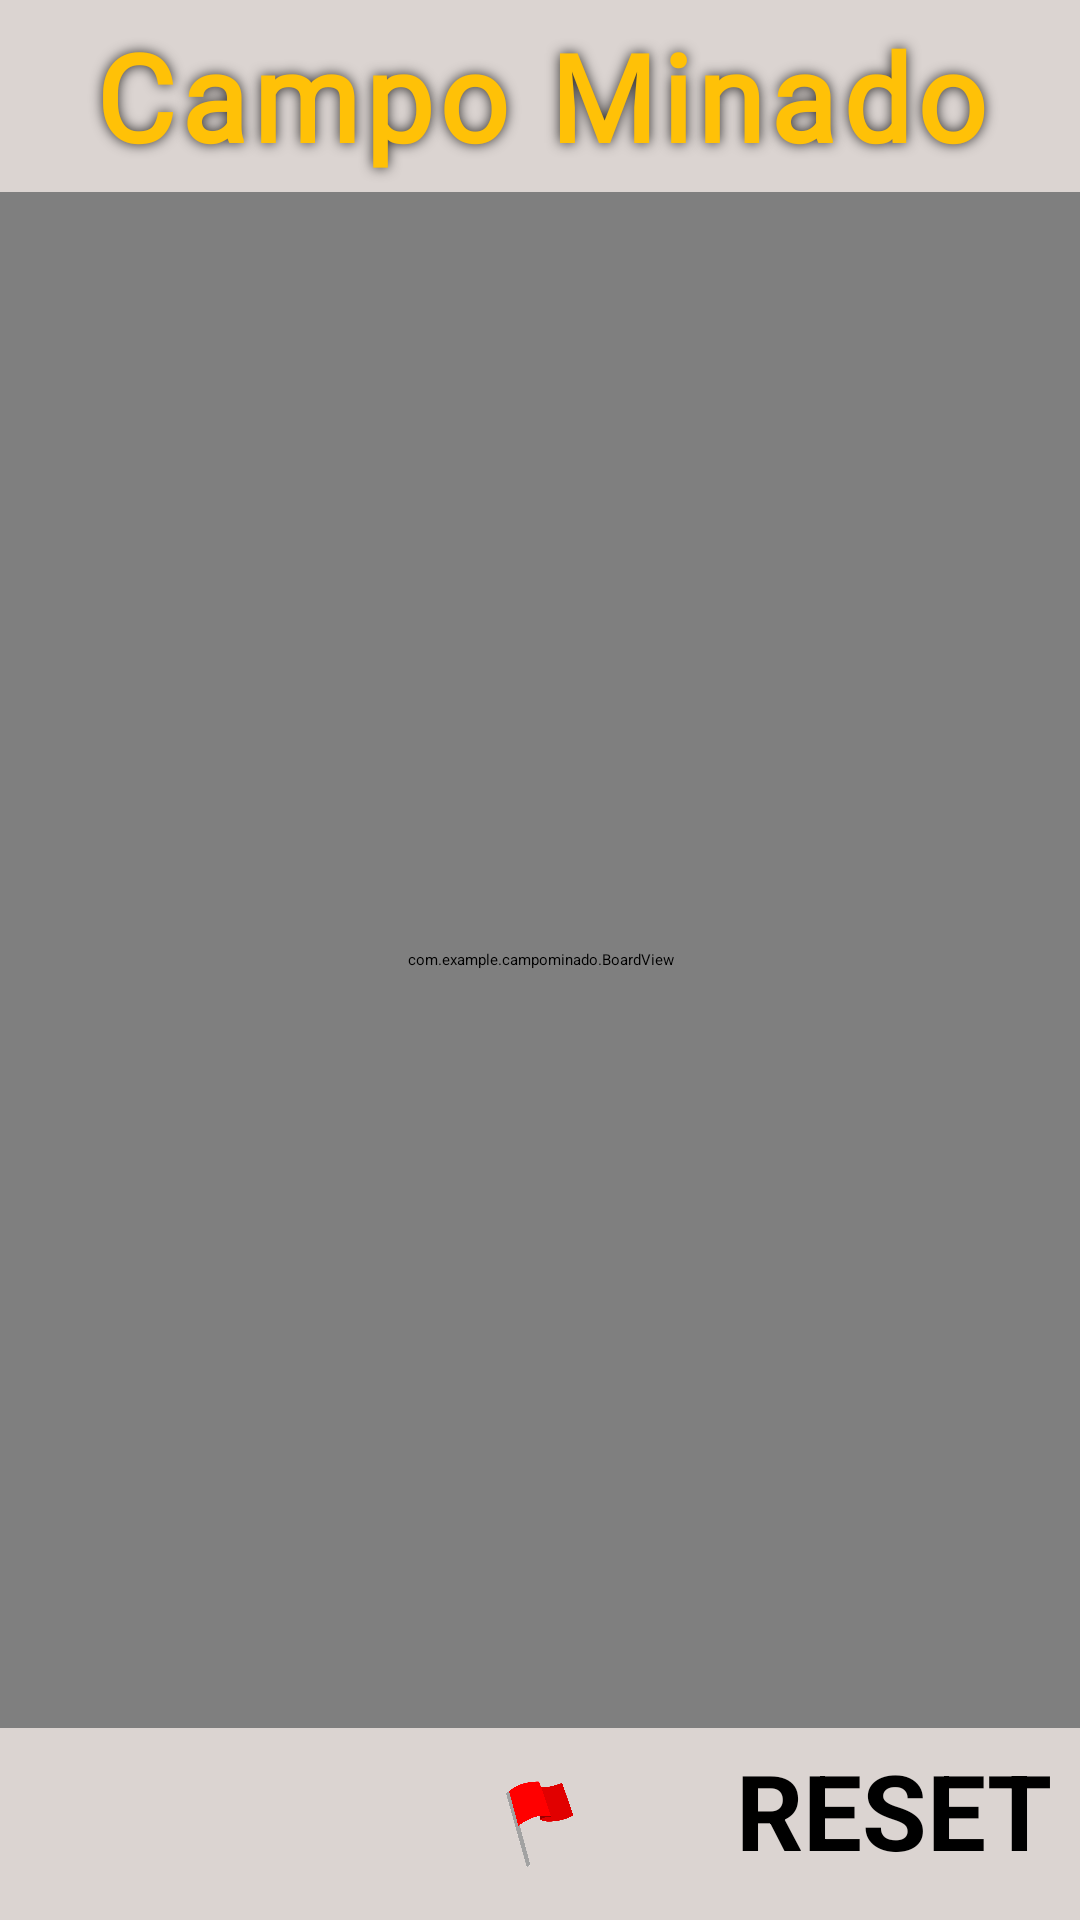

Screen size 1080x1920. Icon name, then its box in pixels as (x1, y1, x2, y2):
MARK: (506, 1781, 573, 1867)
